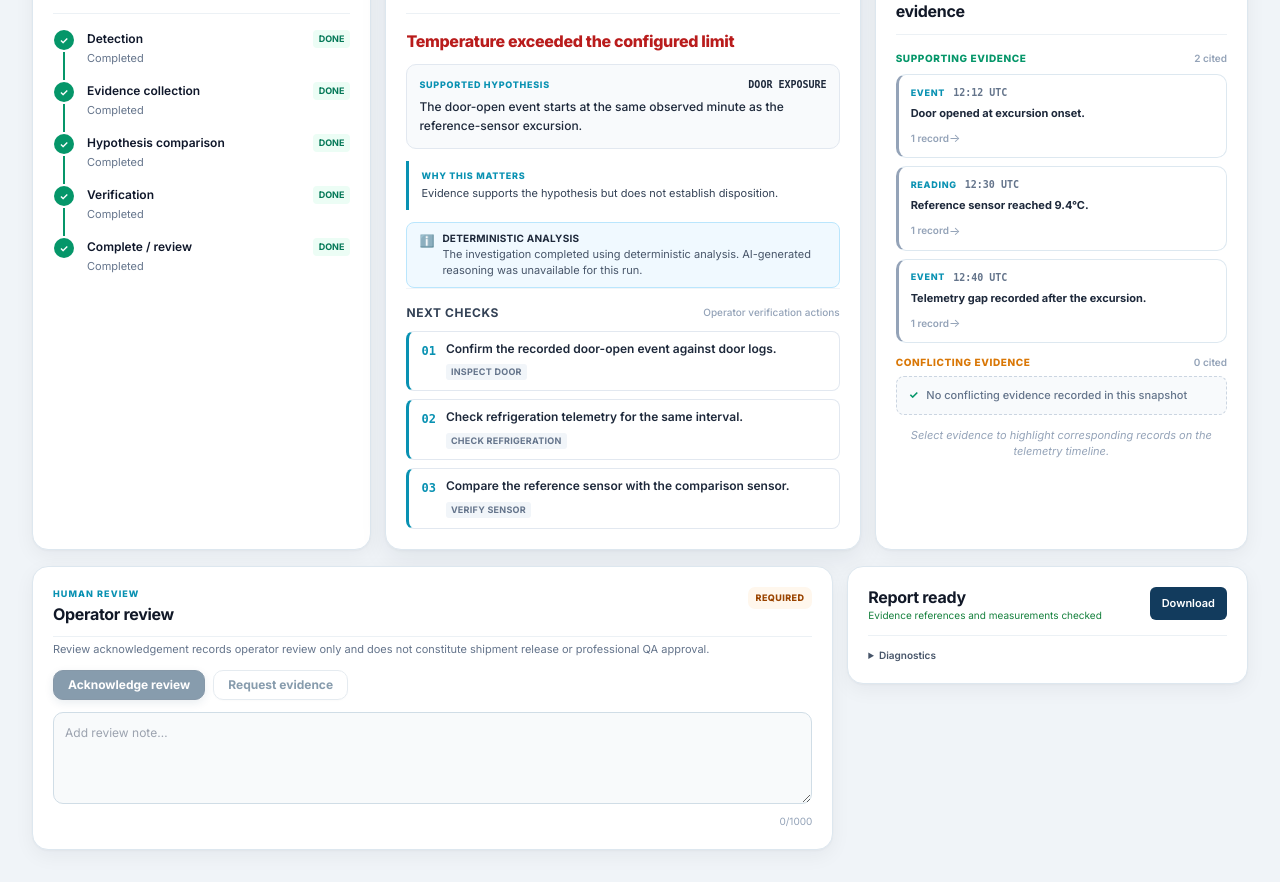
DashboardPage API-backed interactions › submits operator review with JWT authorization header and displays saved review identity
(page scrolled)
Expected: the button "Acknowledge review" is shown, [53, 670, 205, 700]
Type "Checked door sensor logs and confirmed excursion." into the text box with placeholder "Add review note…" at (433, 758), box [53, 712, 812, 804]
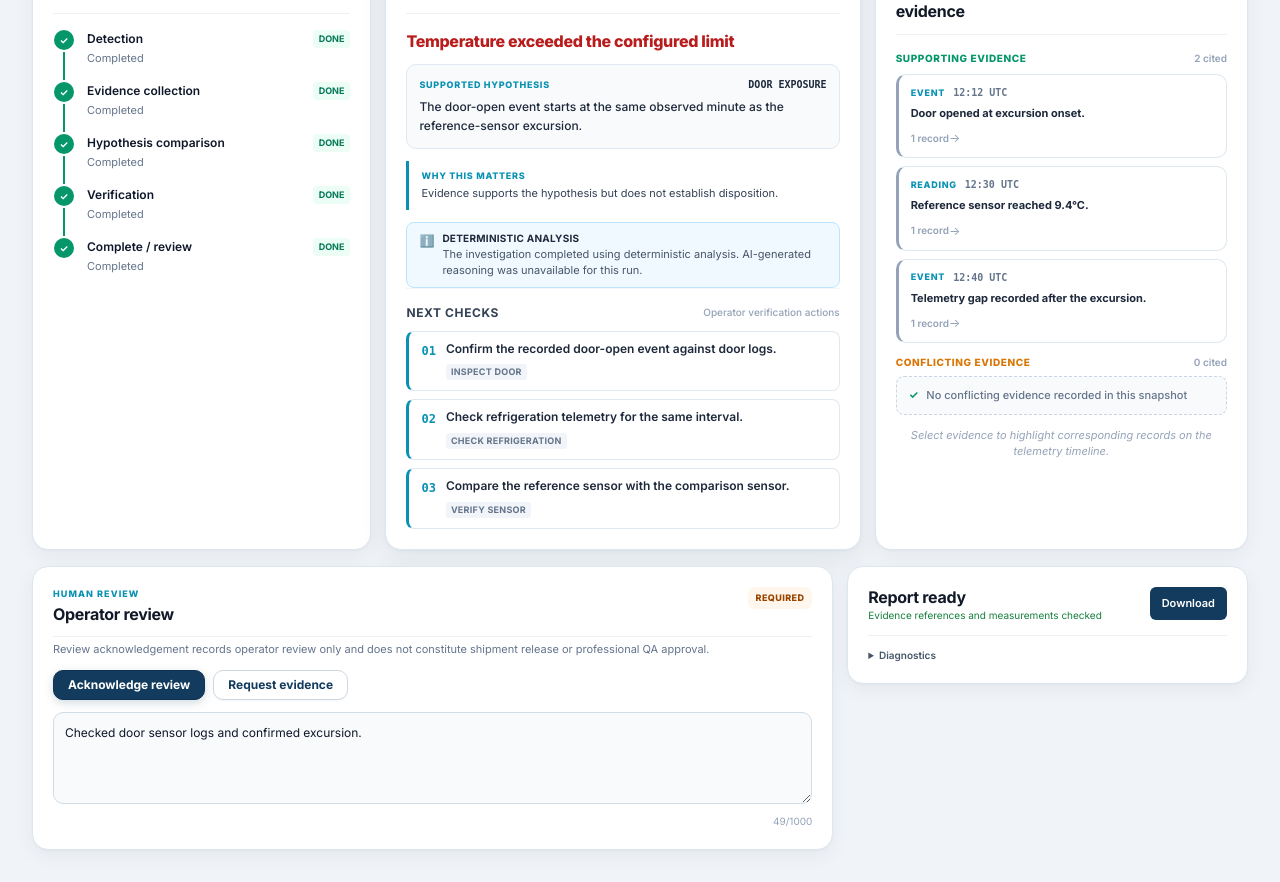
Now the button "Acknowledge review" is enabled
Click the button "Acknowledge review" at (129, 685), box [53, 670, 205, 700]
(page scrolled)
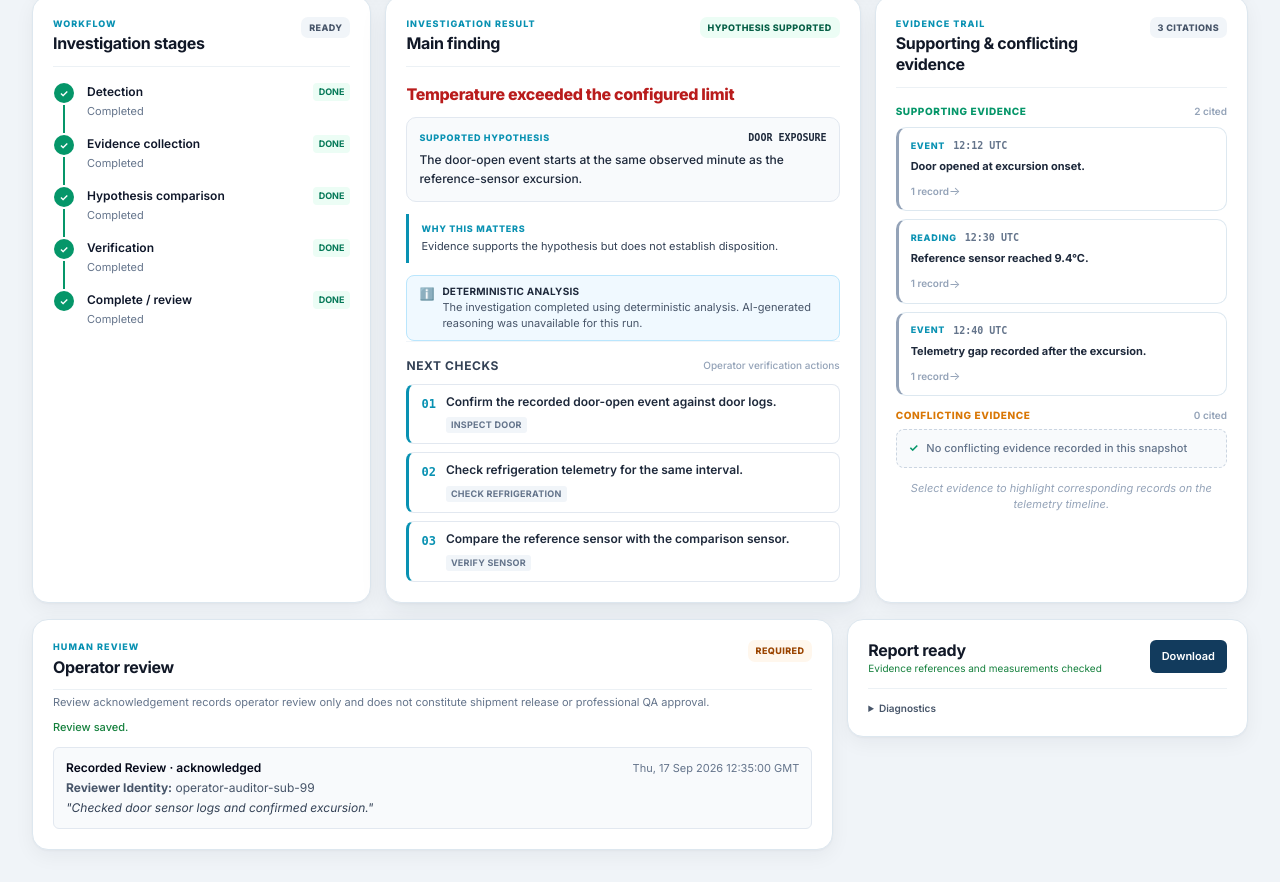
Now the text "Review saved." is shown, box [53, 720, 128, 734]
Now the text with test id "reviewer-identity" reads "operator-auditor-sub-99", box [176, 780, 315, 795]
Now the text "Recorded Review · acknowledged" is shown, box [66, 760, 261, 776]
